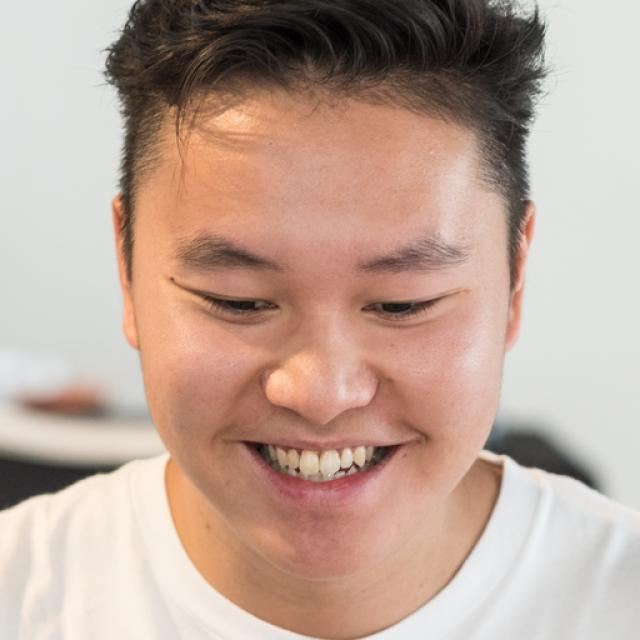happy: (134, 95, 506, 583)
